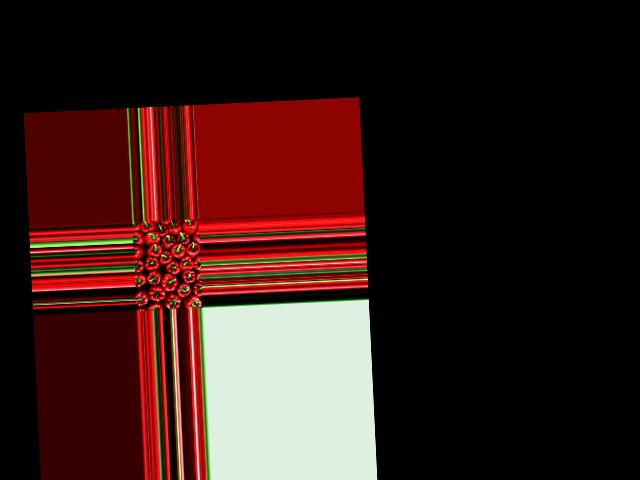bell_pepper: (183, 219, 198, 234)
